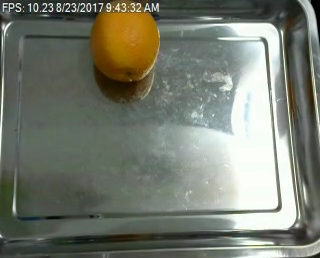Orange: (89, 1, 159, 81)
